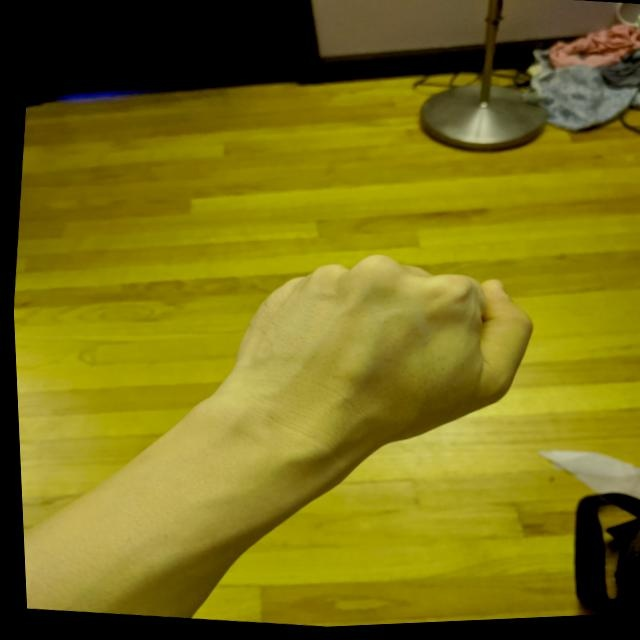A: (203, 231, 546, 480)
